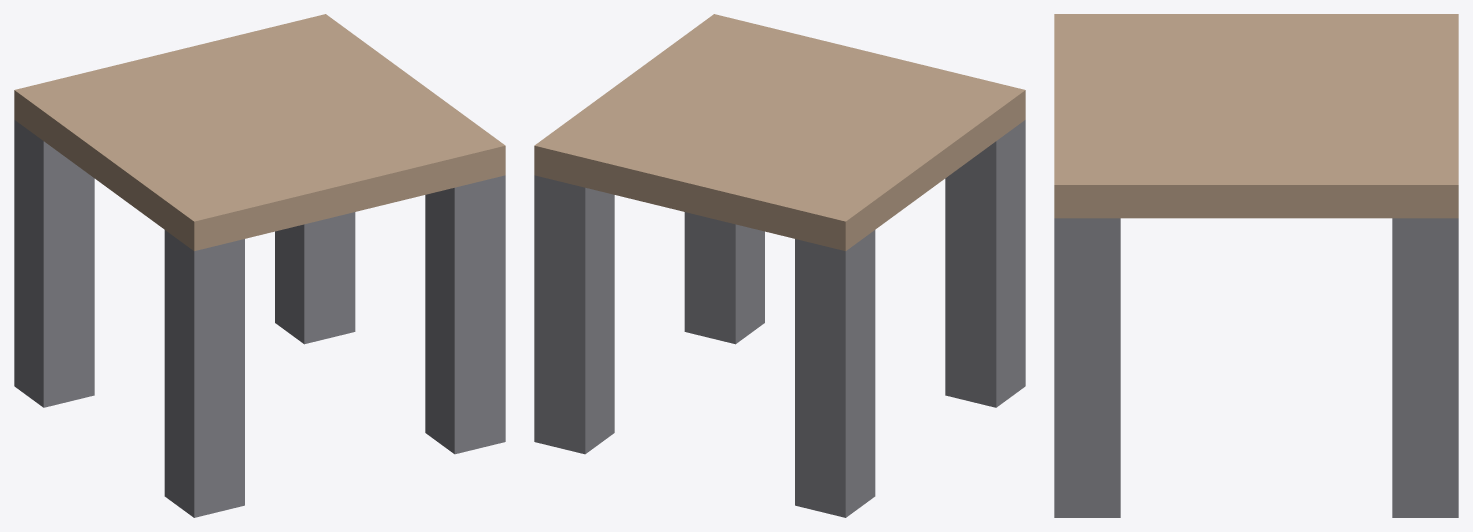
File: gen_side_table.glb
3 views of the same model, side by side, from view 1: azimuth 30°, elevation 25°; view 2: azimuth 150°, elevation 25°; view 3: azimuth 270°, elevation 25° (orthographic). The views are drawn at different scales.
Parts seen in each view (by area): view 1: tabletop, leg_front_left, leg_front_right, leg_back_left, leg_back_right; view 2: tabletop, leg_back_left, leg_back_right, leg_front_left, leg_front_right; view 3: tabletop, leg_front_right, leg_back_right.
Part boxes in pixels (box(x1,y1,x2,y2)): tabletop: box(14, 14, 505, 251); leg_front_left: box(164, 230, 244, 517); leg_front_right: box(425, 175, 505, 454); leg_back_left: box(14, 120, 94, 407); leg_back_right: box(275, 212, 355, 344); tabletop: box(534, 14, 1025, 251); leg_back_left: box(795, 230, 875, 517); leg_back_right: box(534, 175, 614, 454); leg_front_left: box(945, 120, 1025, 407); leg_front_right: box(684, 212, 764, 344); tabletop: box(1054, 14, 1458, 218); leg_front_right: box(1054, 218, 1120, 517); leg_back_right: box(1392, 218, 1458, 517).
Size of the model in its own units: 0.55 by 0.5 by 0.55.
